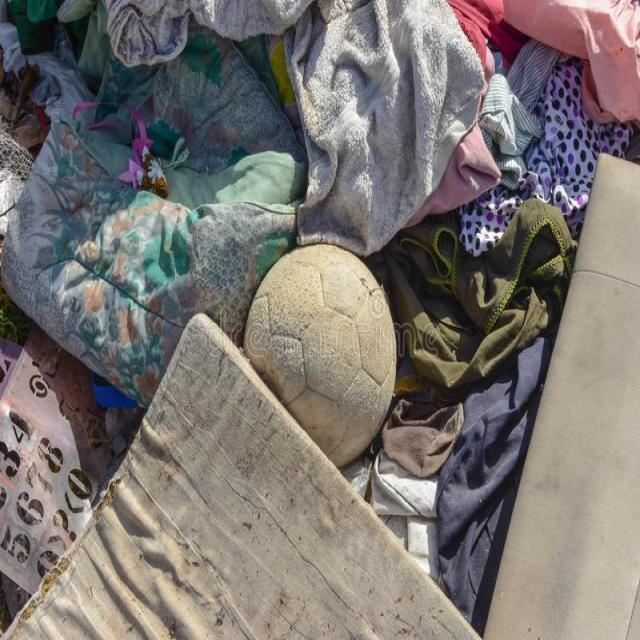clothes: (126, 34, 507, 230), (408, 304, 514, 504)
